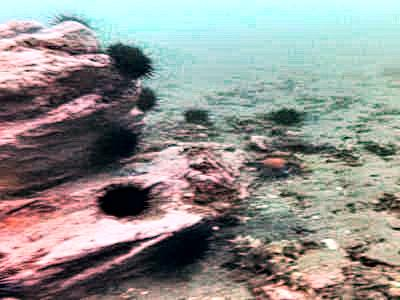urchin: (105, 41, 154, 79), (97, 178, 144, 217), (95, 128, 135, 162), (269, 107, 303, 132), (137, 88, 154, 109), (184, 109, 208, 123)
